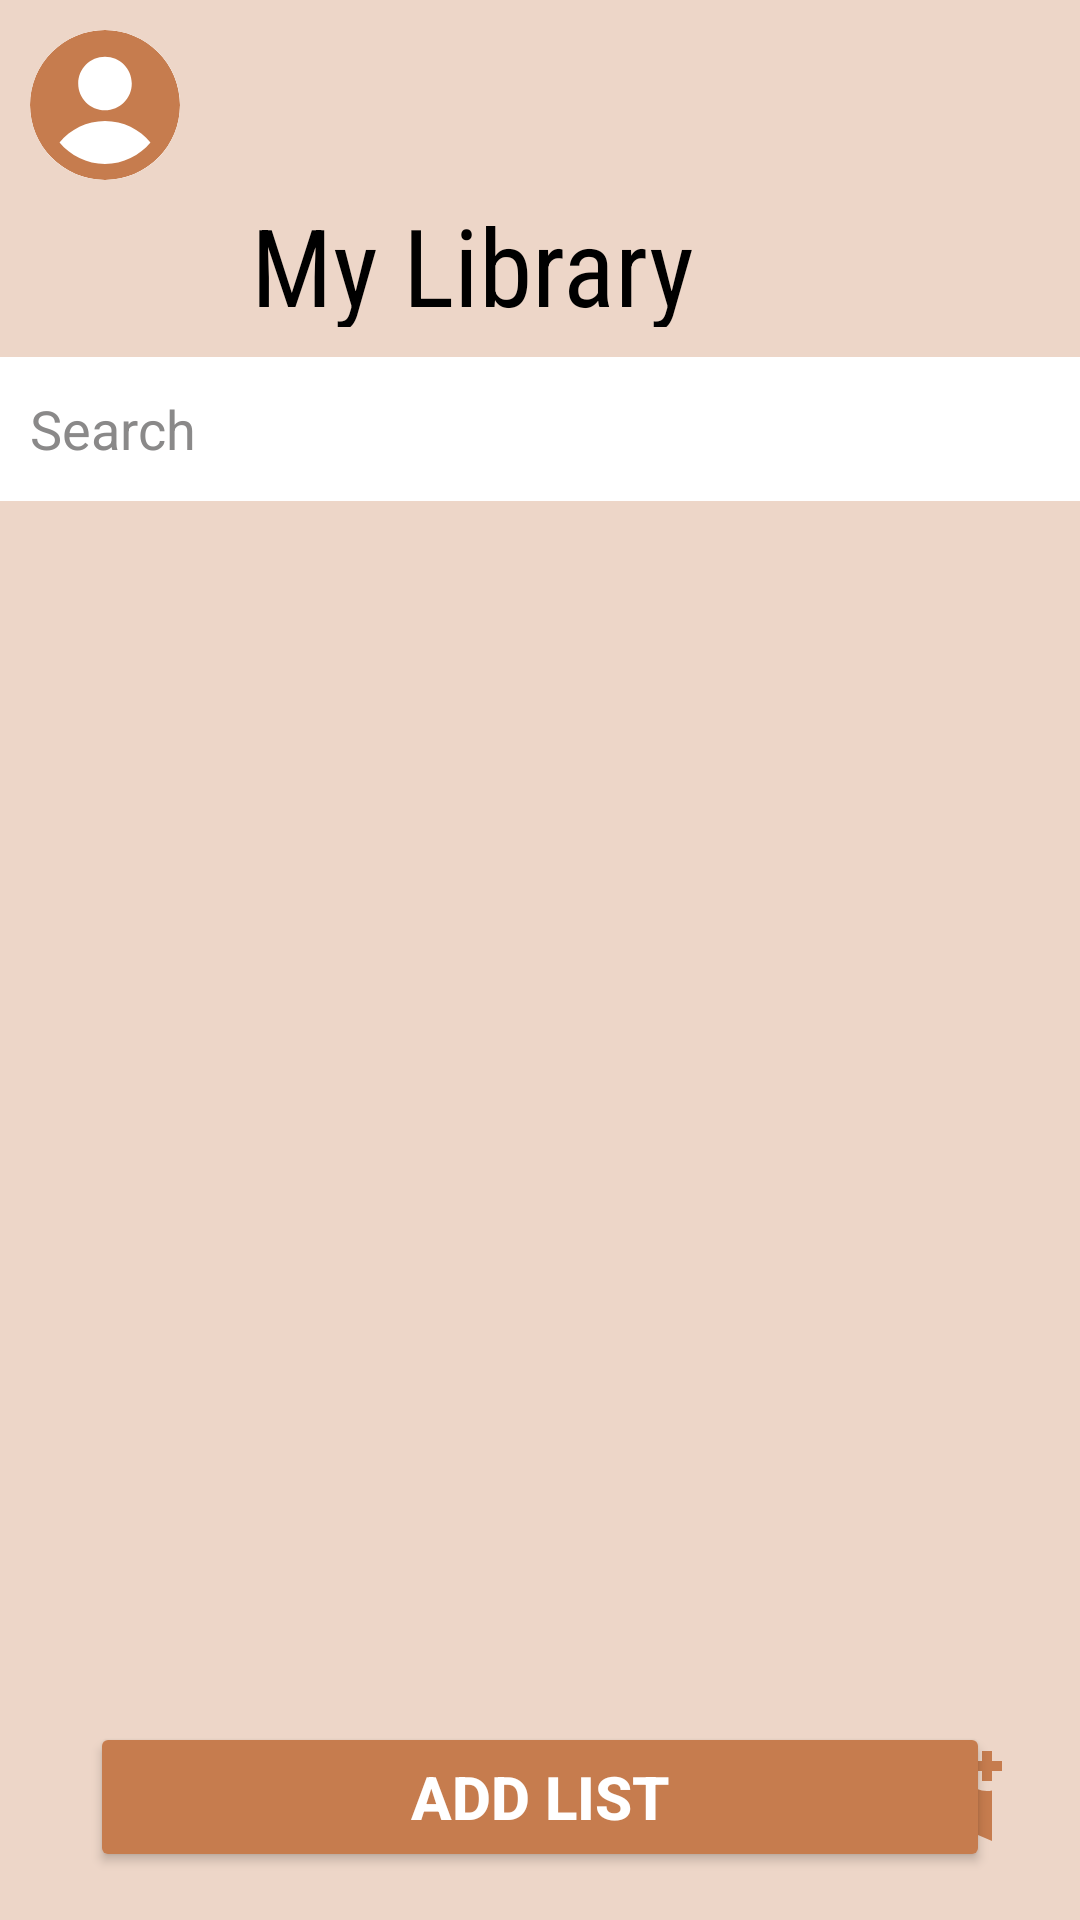

Point at icon controls on the screen. Image size 1080px x 1920px, points as point (x, y).
Add Profile Photo: point (105, 105)
